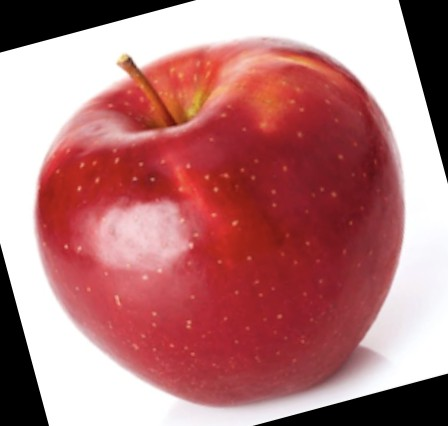fresh_apple: (37, 35, 403, 404)
